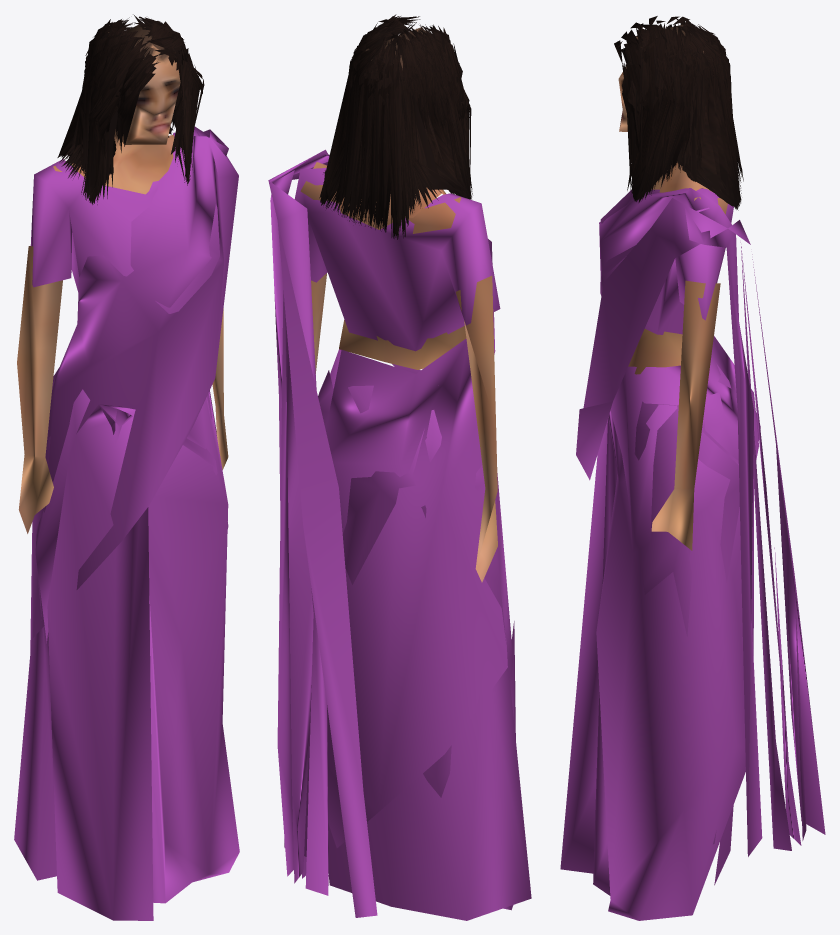
Rendered from woman_saree_violet_stand.glb.
3 renders of one model, left to right at view 1: azimuth 30°, elevation 25°; view 2: azimuth 150°, elevation 25°; view 3: azimuth 270°, elevation 25°, orthographic. The views are drawn at different scales.
Visible parts, largest first — view 1: geometry_0; view 2: geometry_0; view 3: geometry_0.
Boxes of the visible parts, bbox=[...] form: geometry_0: bbox=[14, 14, 239, 920]; geometry_0: bbox=[268, 14, 531, 920]; geometry_0: bbox=[560, 16, 825, 920].
Bounding box in the file's own units: 0.4205 × 1.56 × 0.4301.
1 material, 1 textured.
